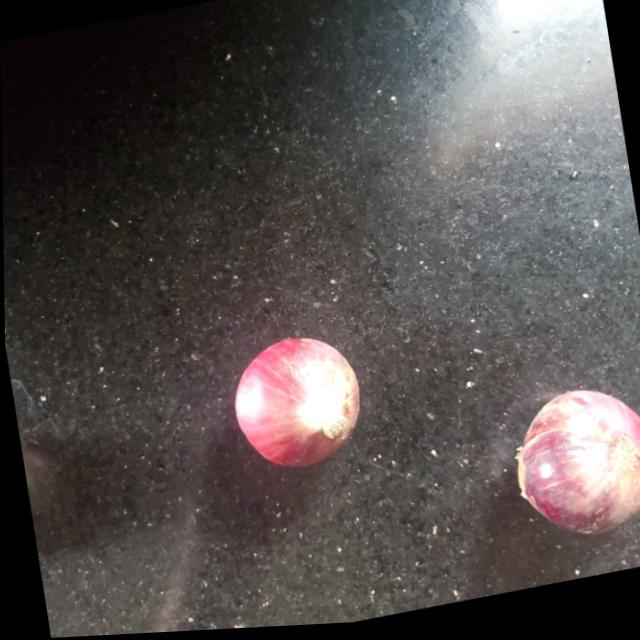onion: (503, 384, 640, 559), (224, 334, 369, 486)
